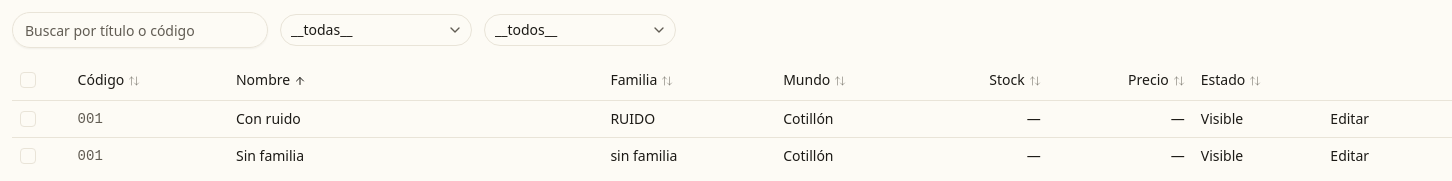
Scenario: PublicadoTab — filtro de familia › "— sin familia —" deja sólo los productos sin familia asignada
The width and height of the screenshot is (1452, 181).
Expected: the row "001 Con ruido RUIDO Cotillón — — Visible Editar" is shown, [12, 100, 1451, 137]
Click the dropdown named "Filtrar por familia". click: x=376, y=30
box: [280, 14, 472, 46]
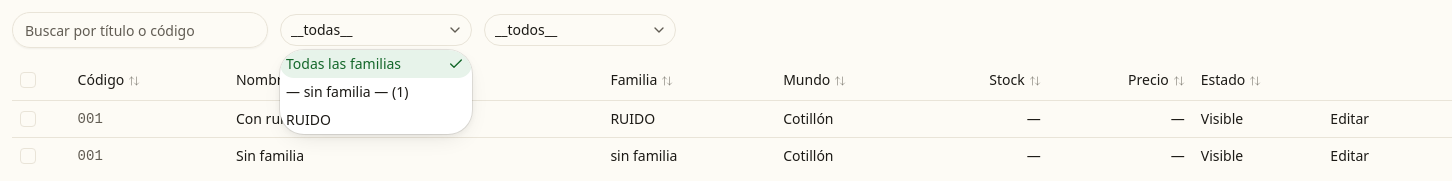
Click the option "— sin familia — (1)". click: x=347, y=92
box: [286, 82, 408, 101]
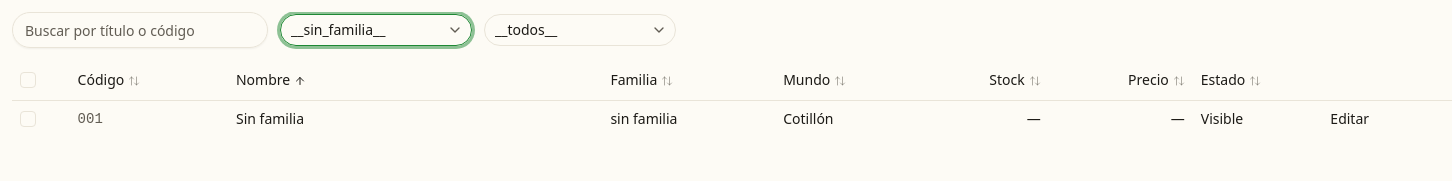
Expected: the text "Sin familia" is shown, [228, 100, 602, 136]
Expected: the text "Con ruido" is gone
